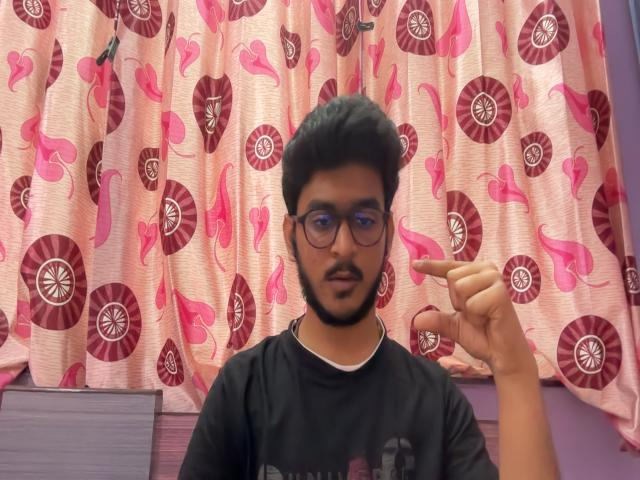No: (408, 247, 555, 398)
